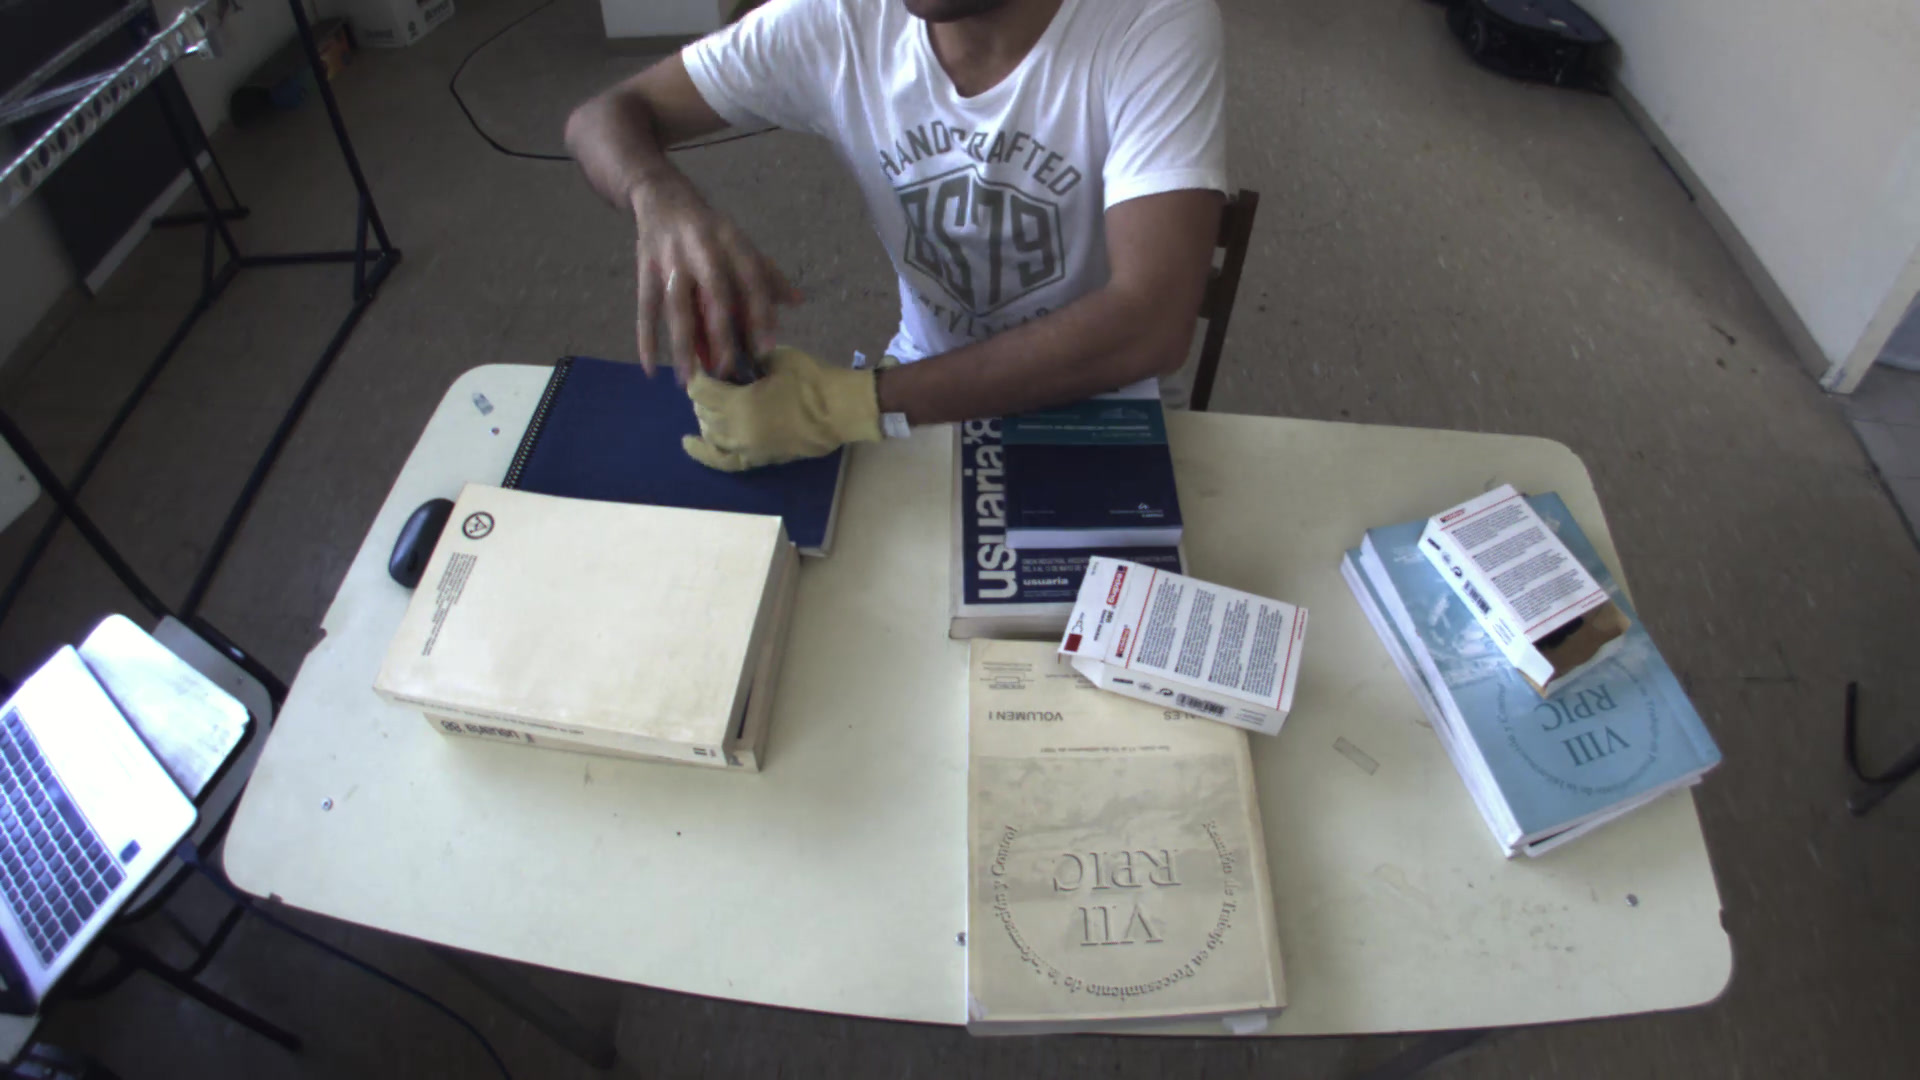hand: (607, 185, 799, 375), (674, 338, 891, 471)
